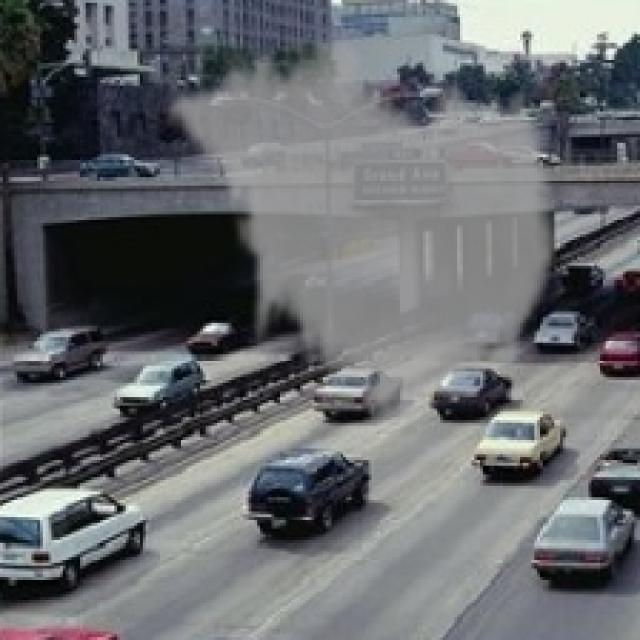Smoke: (166, 22, 563, 432)
